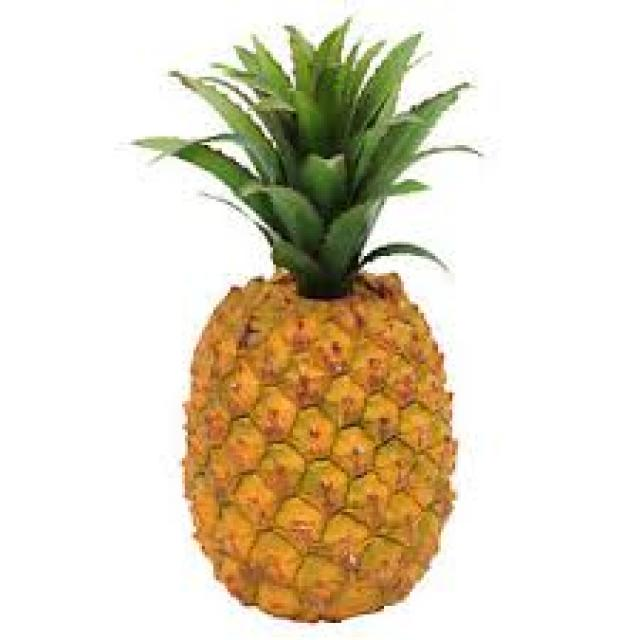organic waste: (131, 6, 469, 628), (185, 265, 455, 620), (131, 14, 475, 288)
